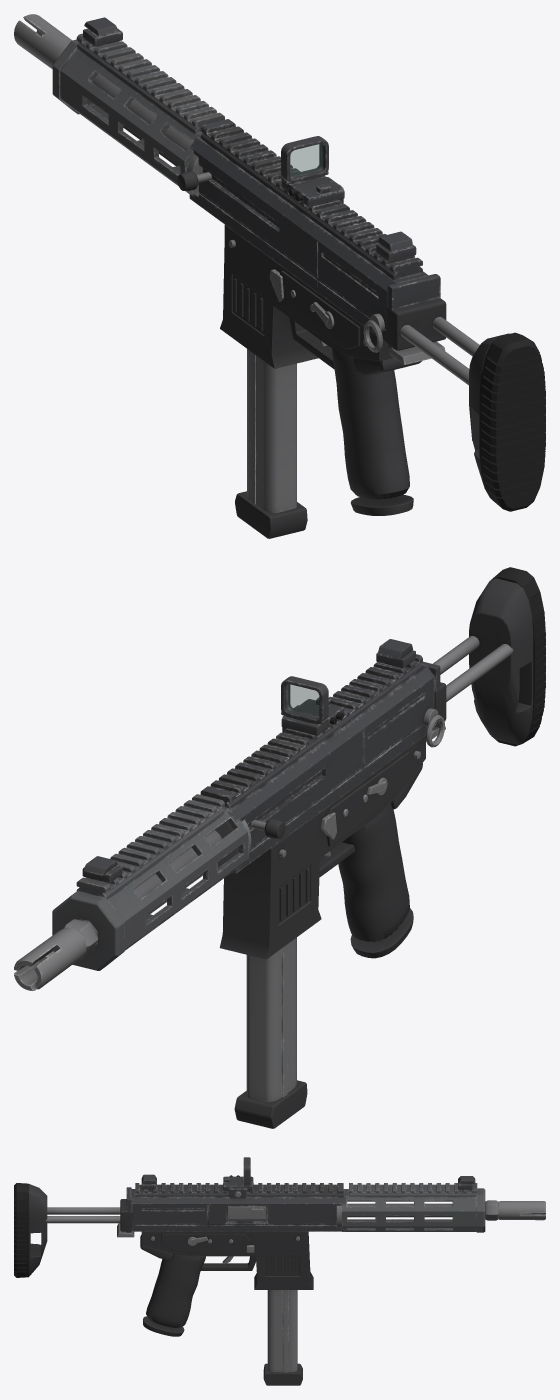
The model's file is yuyan.glb.
3 renders of one model, top to bottom at view 1: azimuth 30°, elevation 25°; view 2: azimuth 150°, elevation 25°; view 3: azimuth 270°, elevation 25°, orthographic. The views are drawn at different scales.
Parts seen in each view (by area): view 1: body, magazine; view 2: body, magazine; view 3: body, magazine, bolt.
Part boxes in pixels (x1,y1,x2,y2): body: [14, 14, 545, 515]; magazine: [235, 349, 307, 538]; body: [14, 567, 545, 990]; magazine: [234, 937, 307, 1128]; body: [14, 1157, 545, 1336]; magazine: [263, 1290, 302, 1385]; bolt: [227, 1206, 266, 1219].
Bounding box in the file's own units: 0.0596 × 0.2755 × 0.605.
2 materials, 1 textured.
